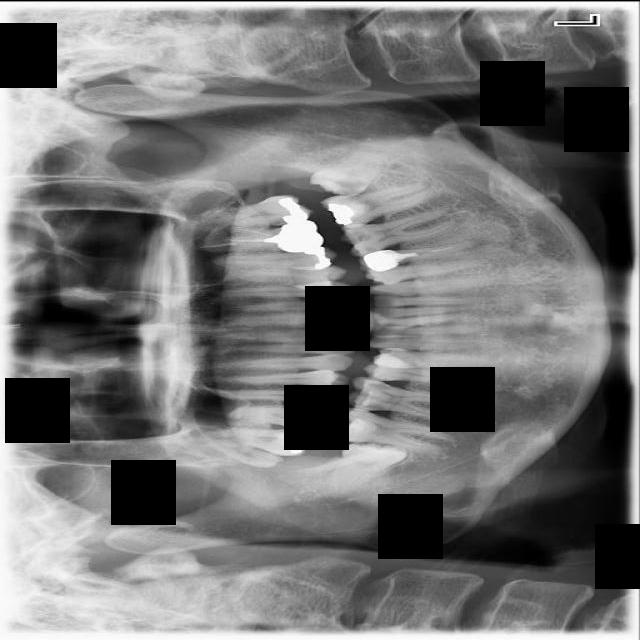3M ESPE Implant: (196, 433, 287, 474)
52: (327, 398, 390, 455), (318, 183, 380, 236), (256, 189, 315, 228), (261, 427, 320, 457), (281, 399, 332, 433), (275, 218, 324, 253), (284, 244, 337, 271), (357, 247, 401, 272), (371, 380, 397, 390), (363, 404, 387, 410), (367, 246, 381, 253), (358, 234, 372, 240)
73: (193, 224, 285, 253), (394, 236, 484, 265), (600, 75, 608, 80)
BioHorizons Implant: (180, 193, 316, 231)
Biomet 3i Implant: (304, 139, 392, 212)
Blue Sky Bio Implant: (319, 178, 442, 232)
Caries: (193, 422, 319, 457)
Implant: (329, 404, 456, 456)
Keystone Dental Implant: (306, 417, 411, 507)
